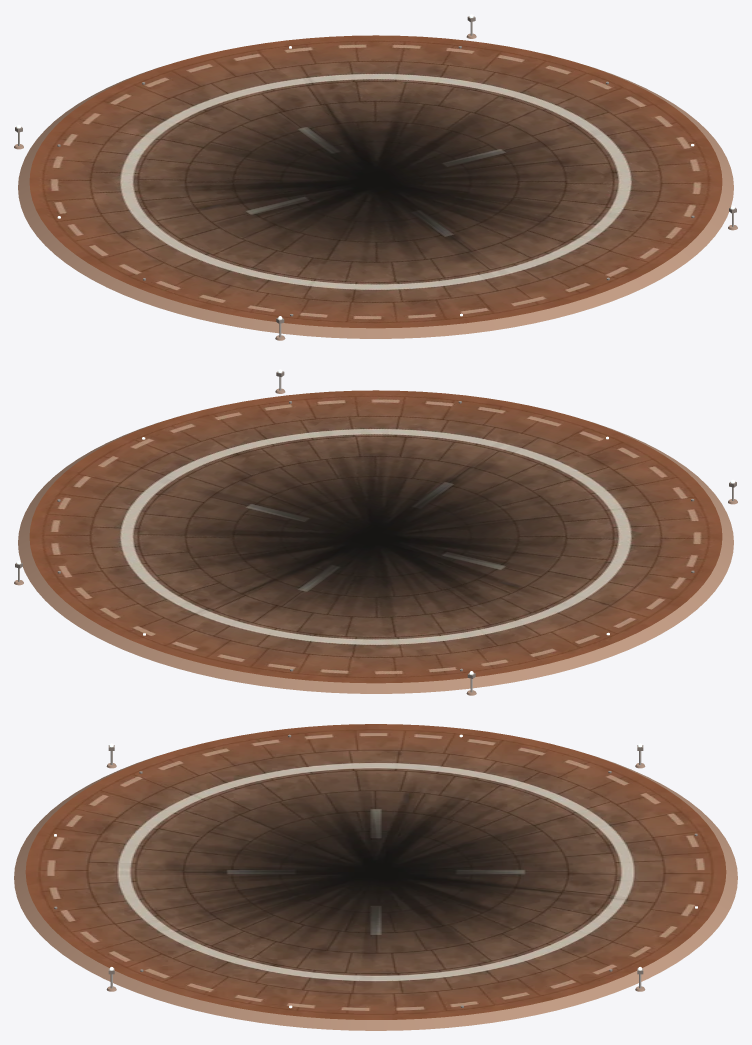
File: R01_landing_pad_simple.glb
3 views of the same model, one above another, from view 1: azimuth 30°, elevation 25°; view 2: azimuth 150°, elevation 25°; view 3: azimuth 270°, elevation 25° (orthographic).
Visible parts, largest first — view 1: pad; view 2: pad; view 3: pad.
Boxes of the visible parts, x1,y1,x2,y2 form: pad: (18, 35, 733, 338); pad: (18, 390, 733, 693); pad: (14, 724, 737, 1030).
Bounding box in the file's own units: 31 × 1.07 × 31.
Materials: 6 (1 with a texture image).
